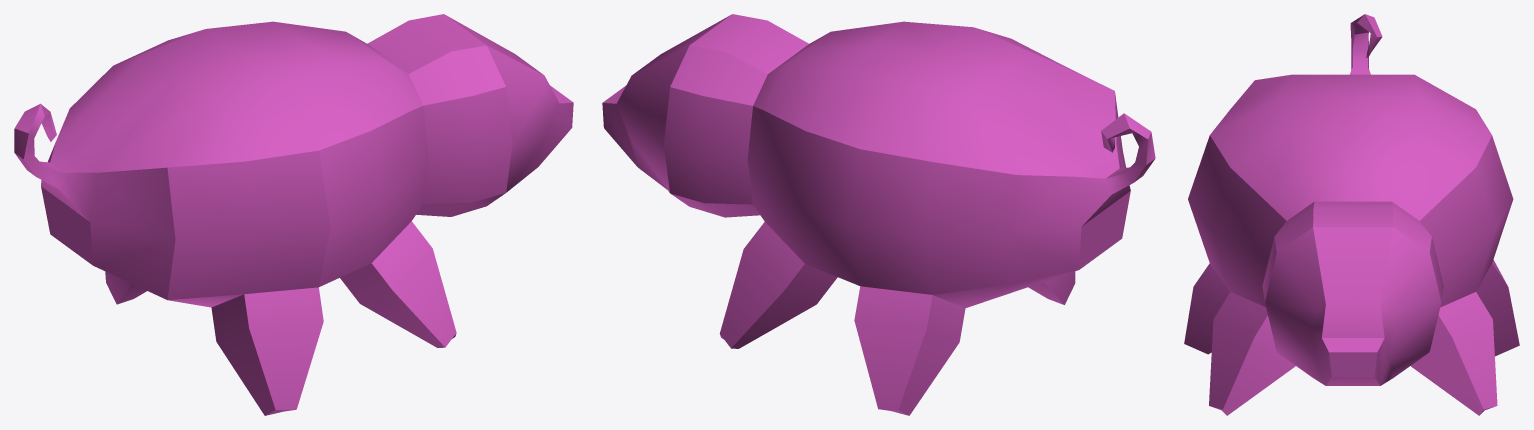
File: Projectile_Pig.FBX
3 views of the same model, side by side, from view 1: azimuth 30°, elevation 25°; view 2: azimuth 150°, elevation 25°; view 3: azimuth 270°, elevation 25° (orthographic). The views are drawn at different scales.
Visible parts, largest first — view 1: Box018; view 2: Box018; view 3: Box018.
Boxes of the visible parts, x1,y1,x2,y2 form: Box018: (14, 14, 573, 415); Box018: (602, 14, 1155, 415); Box018: (1184, 14, 1519, 415).
Bounding box in the file's own units: 0.5734 × 0.2968 × 0.3302.
